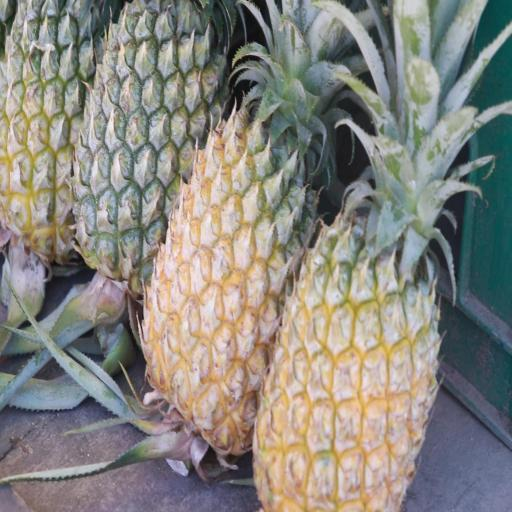------------------------------: (0, 0, 122, 278)
Pineapple - v8 v1: (136, 0, 323, 461), (248, 134, 442, 512)
